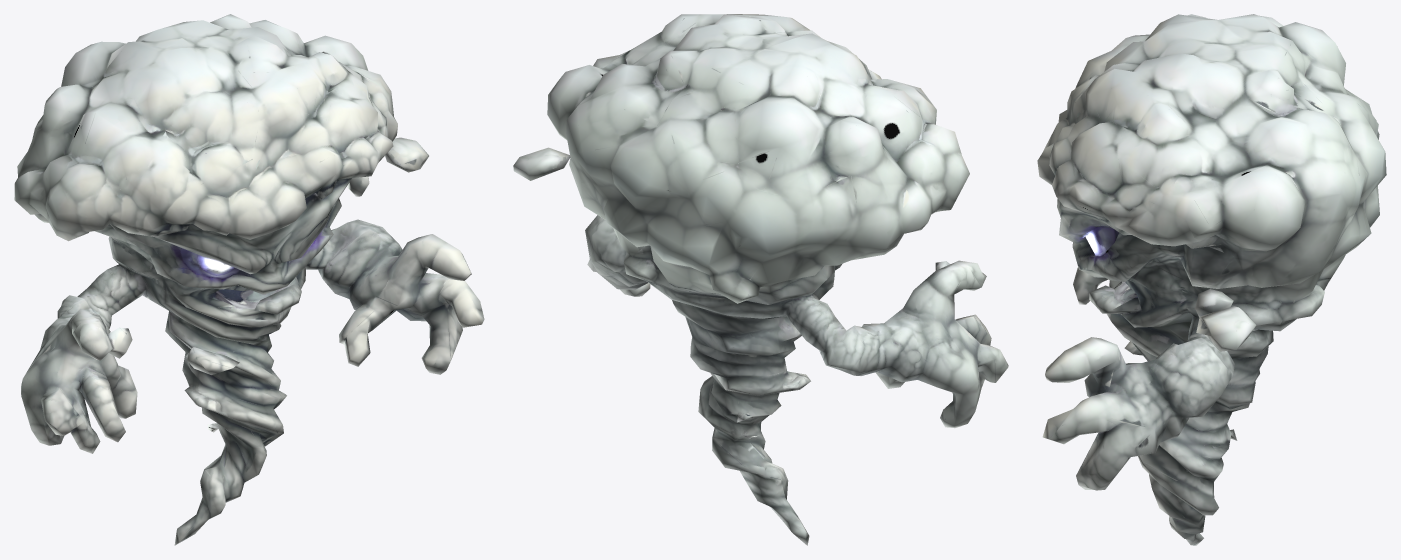
Rendered from Meshy_AI_Tempest_Titan_0531103223_texture.fbx.
The picture shows the model from 3 angles, left to right: view 1: azimuth 30°, elevation 25°; view 2: azimuth 150°, elevation 25°; view 3: azimuth 270°, elevation 25°; orthographic projection. The views are drawn at different scales.
Parts seen in each view (by area): view 1: Mesh1.0; view 2: Mesh1.0; view 3: Mesh1.0.
Boxes of the visible parts, left/top/right/bottom form: Mesh1.0: left=14, top=14, right=484, bottom=545; Mesh1.0: left=513, top=14, right=1008, bottom=545; Mesh1.0: left=1037, top=14, right=1386, bottom=545.
Bounding box in the file's own units: 173 × 190 × 113.
Materials: 1 (1 with a texture image).
